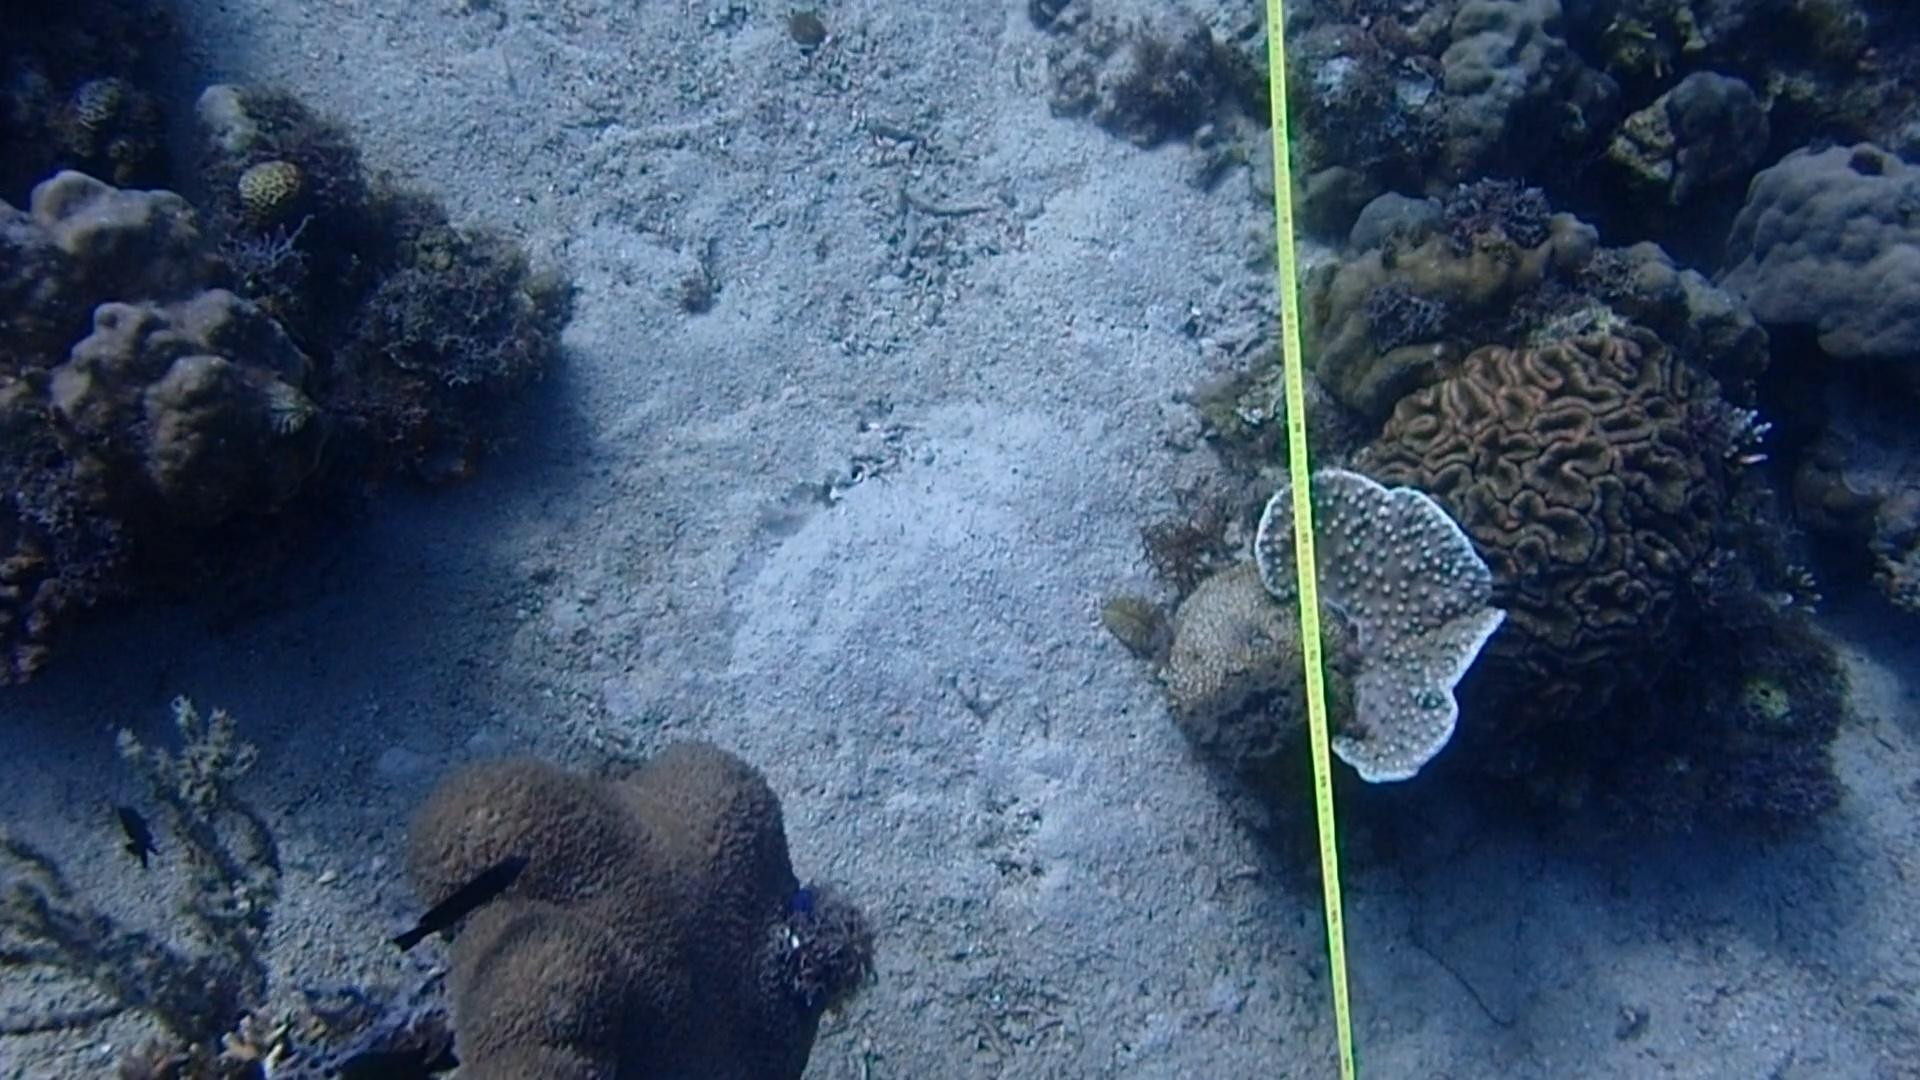Dark Fish: (385, 839, 533, 957), (98, 799, 182, 890)
